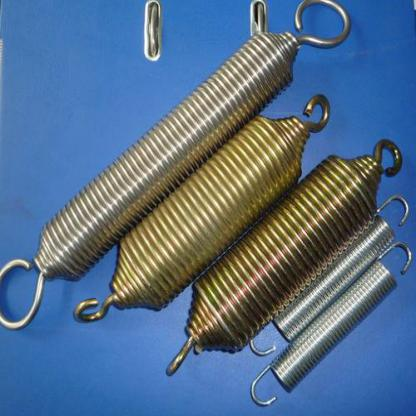FOD: (0, 0, 351, 335), (71, 90, 332, 328), (160, 136, 404, 380), (248, 238, 413, 409), (245, 192, 411, 361)
